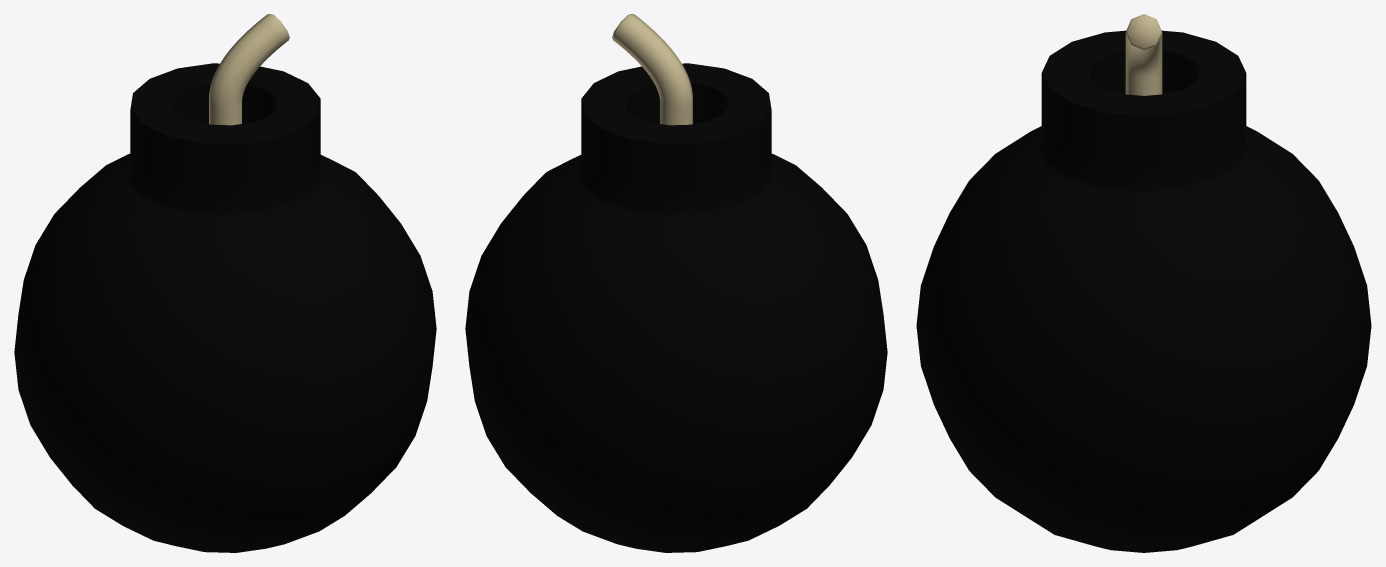
File: Bomb.fbx
The picture shows the model from 3 angles, left to right: view 1: azimuth 30°, elevation 25°; view 2: azimuth 150°, elevation 25°; view 3: azimuth 270°, elevation 25°; orthographic projection. The views are drawn at different scales.
Visible parts, largest first — view 1: Sphere; view 2: Sphere; view 3: Sphere.
Part boxes in pixels (x1=…): Sphere: x1=14, y1=14, x2=436, y2=552; Sphere: x1=465, y1=14, x2=887, y2=552; Sphere: x1=916, y1=14, x2=1371, y2=552.
Size of the model in its own units: 200 by 200 by 264.
